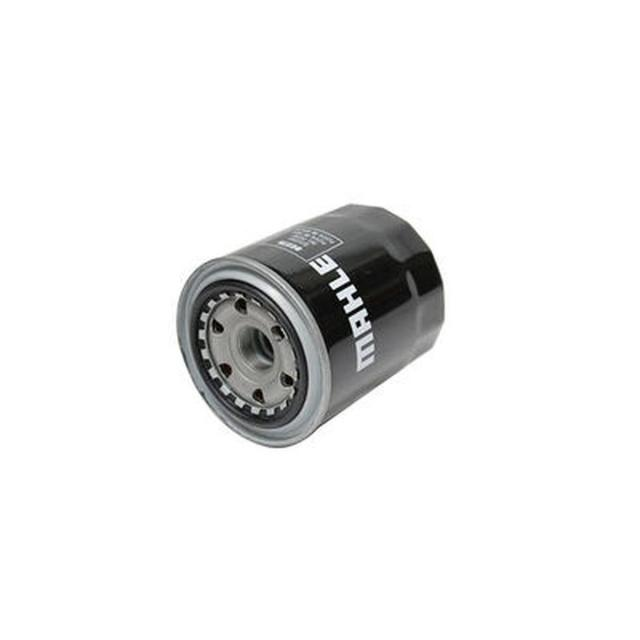oil_filter: (146, 188, 452, 454)
